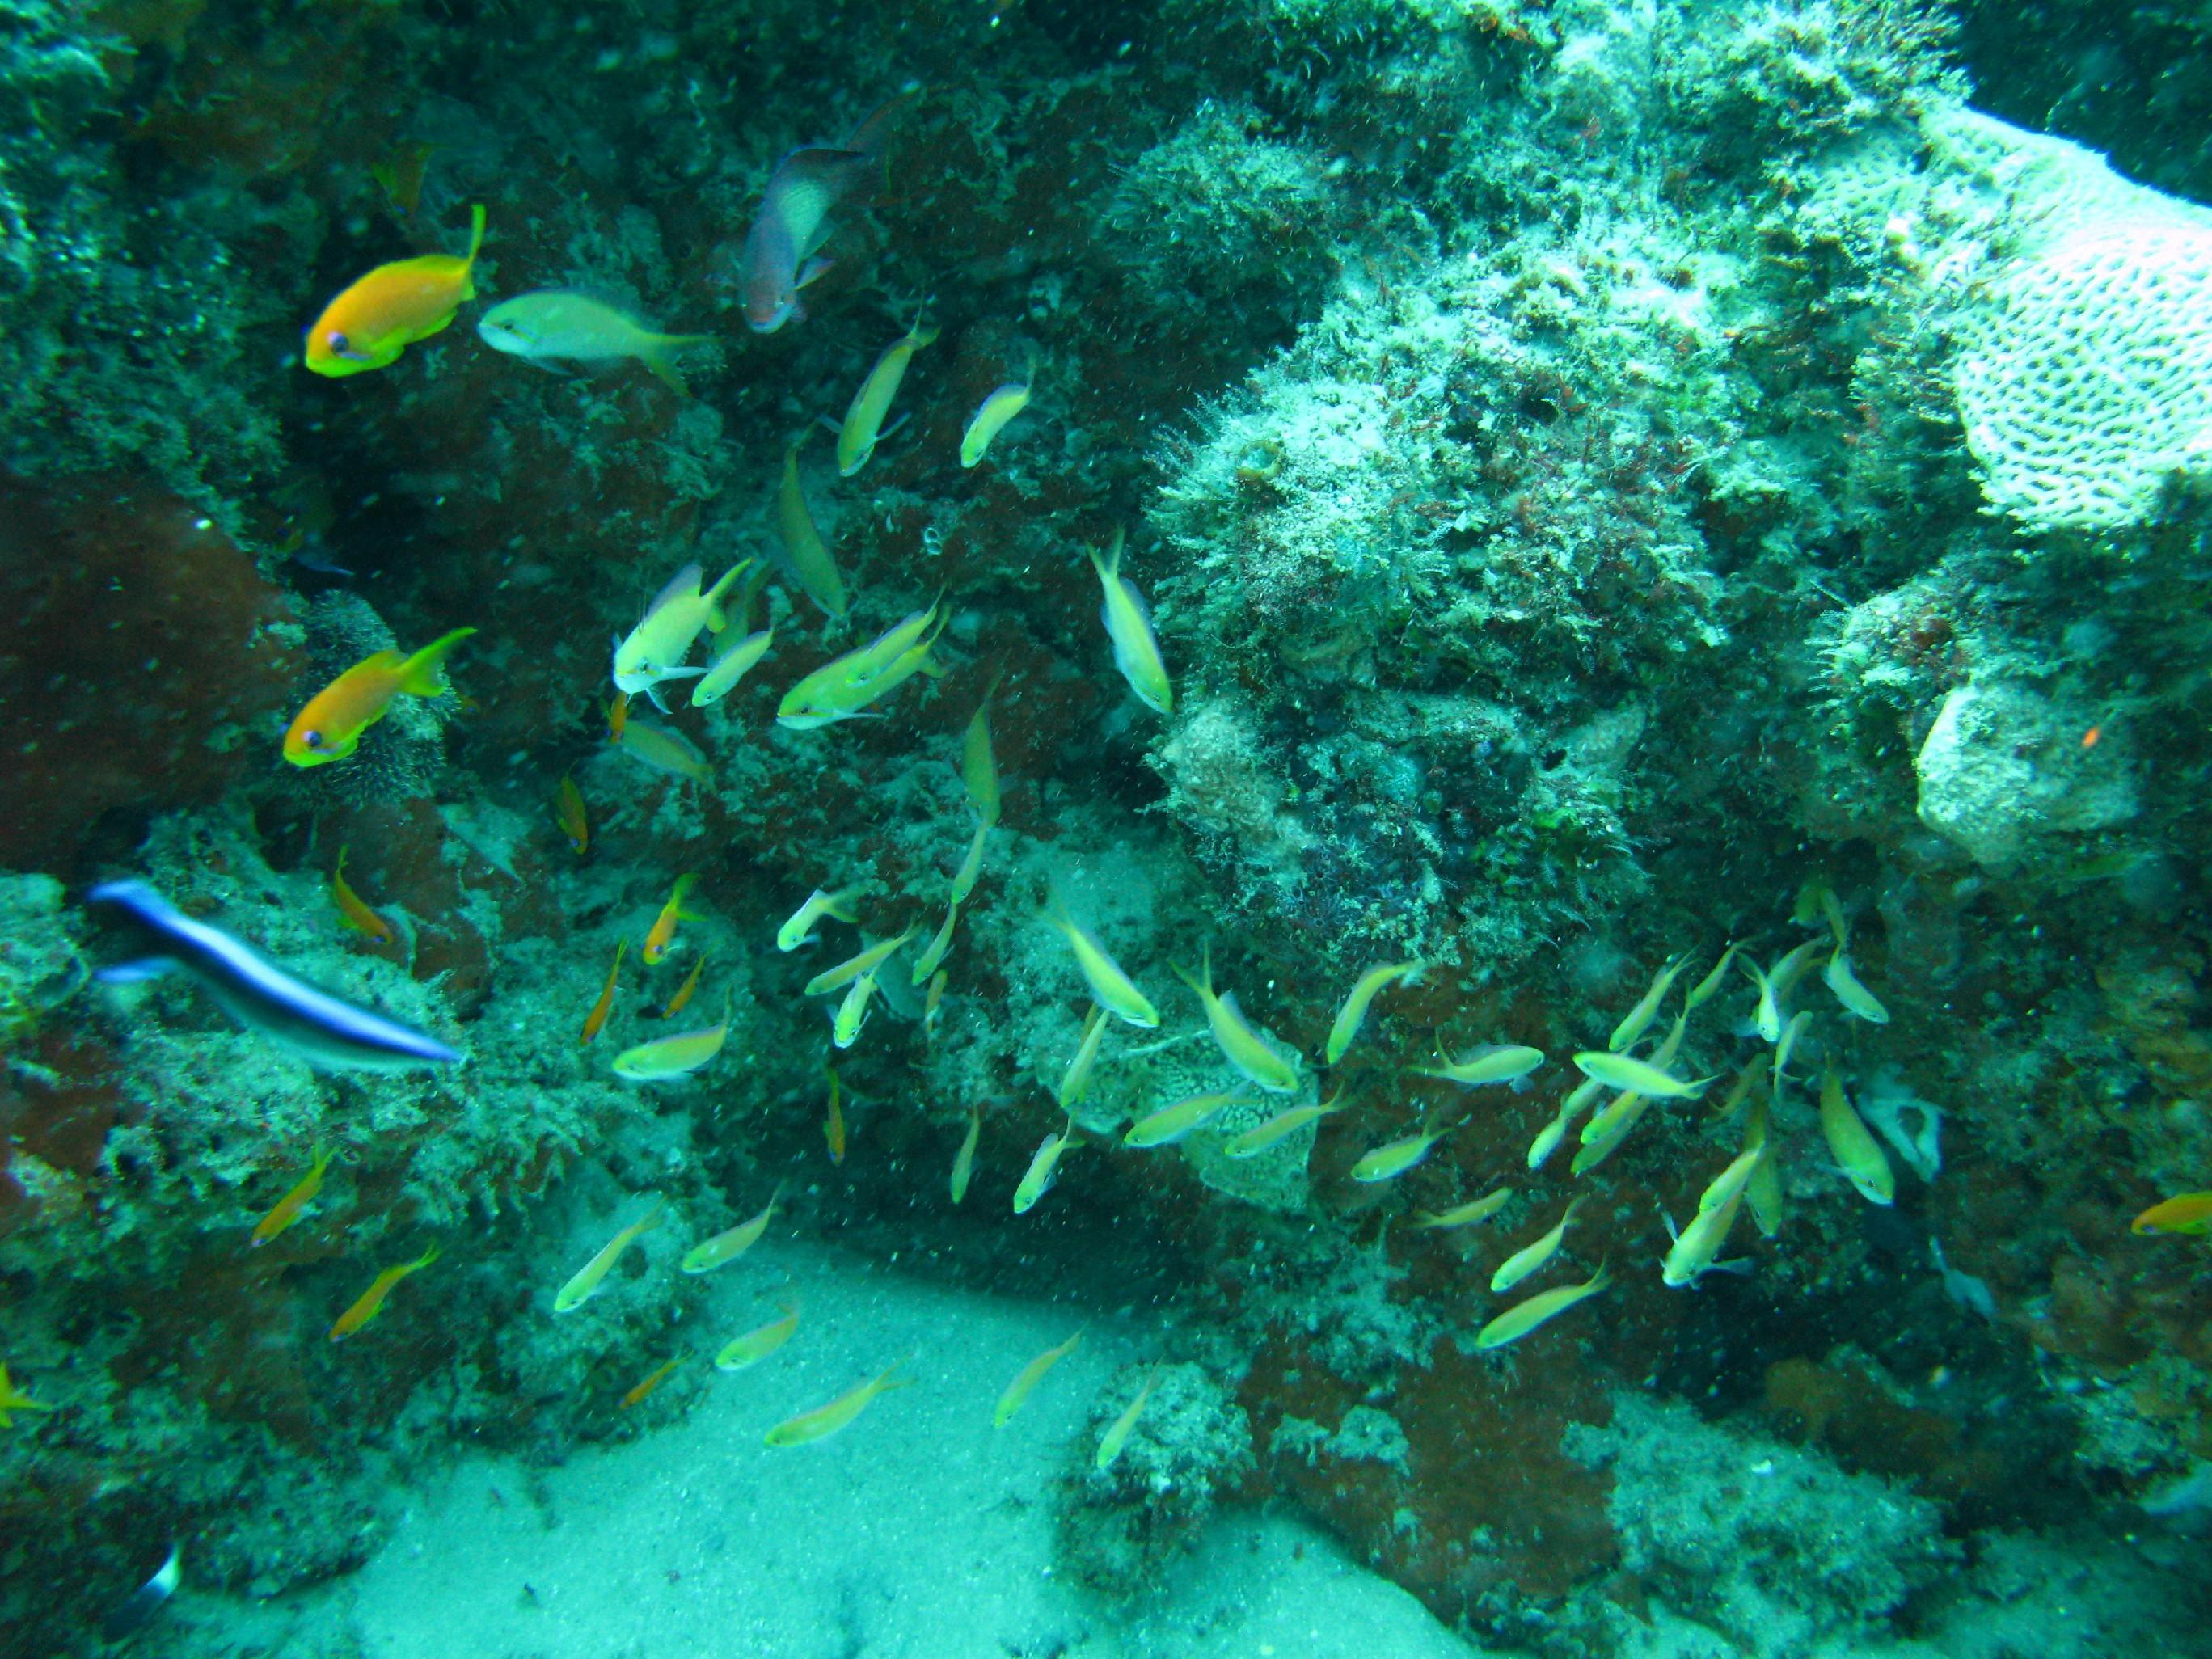Pseadanthias squamipinnis: (158, 206, 606, 439), (206, 572, 547, 823), (307, 1222, 460, 1396), (286, 838, 432, 960), (239, 1126, 341, 1272), (629, 861, 709, 986), (566, 925, 631, 1053), (545, 753, 601, 880)
